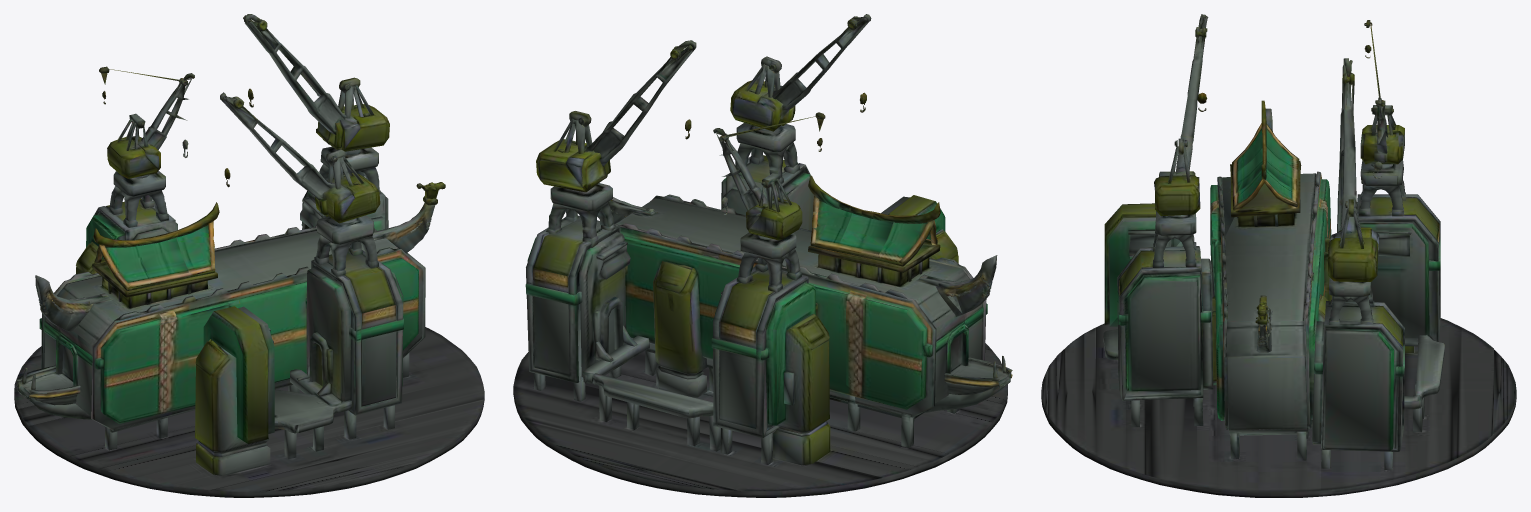
Rendered from nmrf_naval_yard.glb.
3 views of the same model, side by side, from view 1: azimuth 30°, elevation 25°; view 2: azimuth 150°, elevation 25°; view 3: azimuth 270°, elevation 25° (orthographic). The views are drawn at different scales.
Parts seen in each view (by area): view 1: Body, Trim; view 2: Body, Trim; view 3: Body, Trim.
Part boxes in pixels (x1,y1,x2,y2): Body: (14, 14, 484, 497); Trim: (40, 216, 418, 440); Body: (513, 14, 1012, 497); Trim: (525, 178, 987, 425); Body: (1041, 14, 1516, 497); Trim: (1109, 128, 1393, 450).
Bounding box in the file's own units: 9.22 × 7.27 × 8.68.
Materials: 2 (2 with a texture image).
